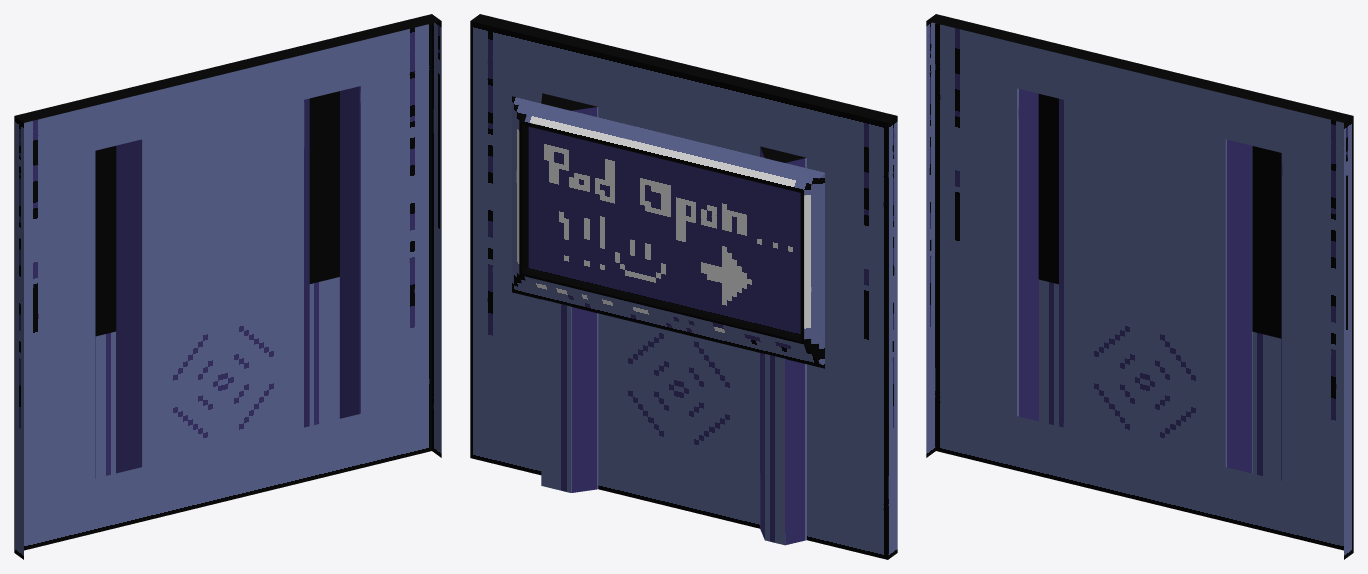
The model's file is Wall_PodC.glb.
The picture shows the model from 3 angles, left to right: view 1: azimuth 30°, elevation 25°; view 2: azimuth 150°, elevation 25°; view 3: azimuth 330°, elevation 25°; orthographic projection.
Parts seen in each view (by area): view 1: Wall_PodC; view 2: Wall_PodC; view 3: Wall_PodC.
Part boxes in pixels (x1,y1,x2,y2): Wall_PodC: (14,14,441,559); Wall_PodC: (470,14,897,559); Wall_PodC: (926,14,1353,559).
Size of the model in its own units: 5 by 5 by 0.5599.
1 material, 1 textured.
